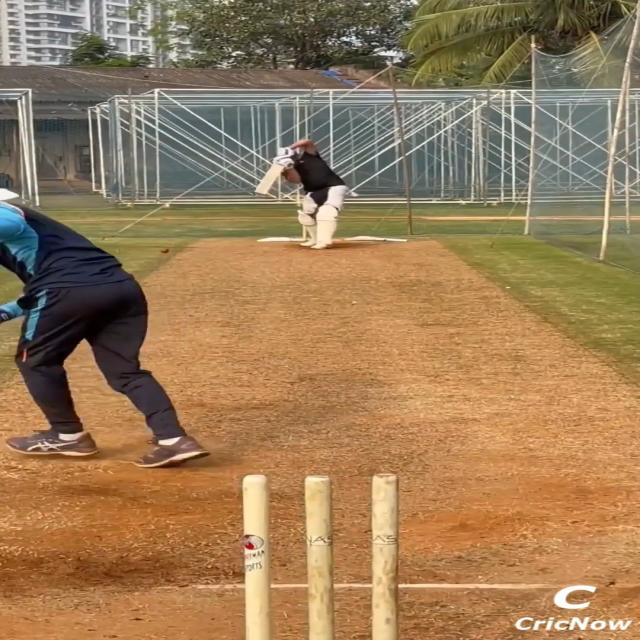stump: (240, 474, 402, 640)
